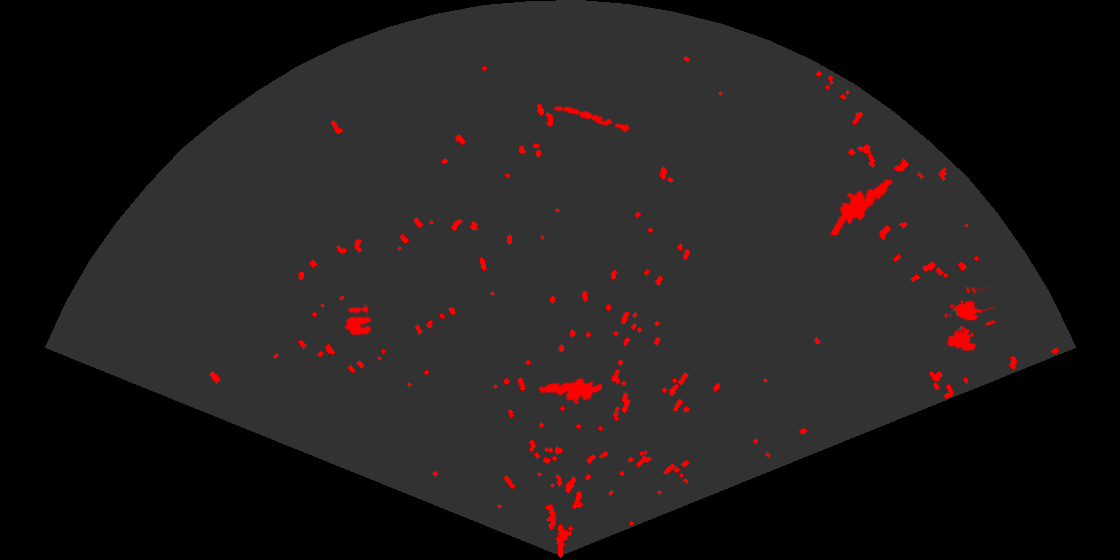ball: (343, 305, 373, 337)
cage: (942, 287, 995, 353)
chain: (551, 104, 635, 134)
frogman: (829, 177, 894, 235), (536, 376, 602, 406)
